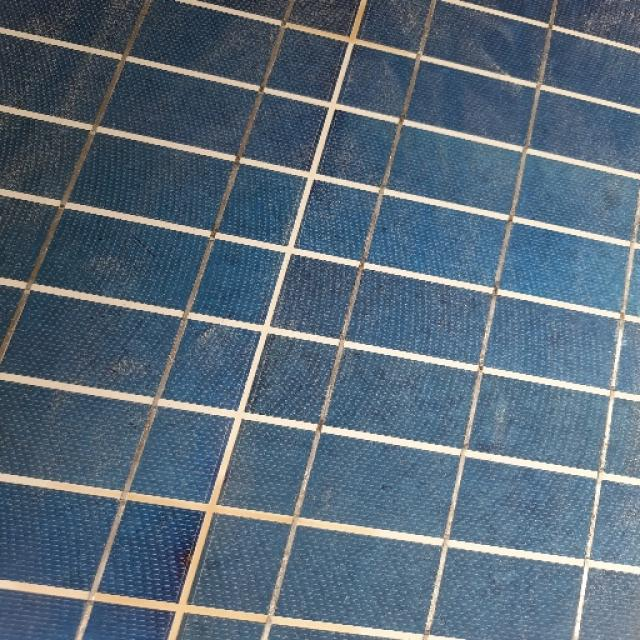Dirty: (0, 44, 640, 640)
